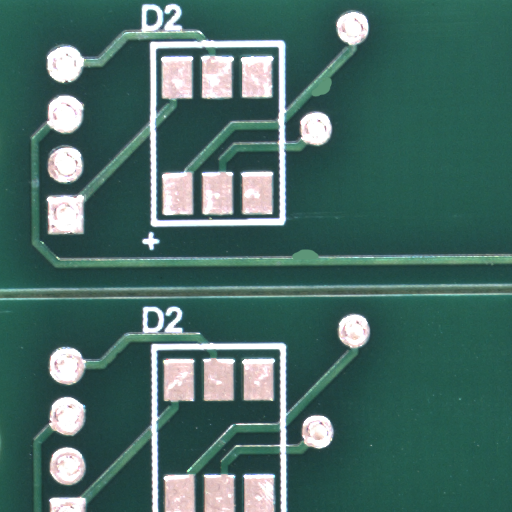Spur: (304, 254, 335, 266), (321, 88, 341, 106)
